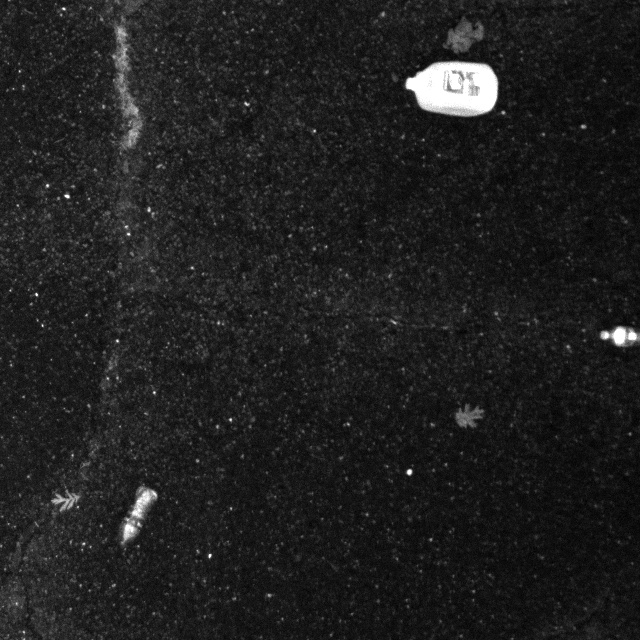bottle: (112, 476, 166, 557)
can: (401, 54, 507, 124)
